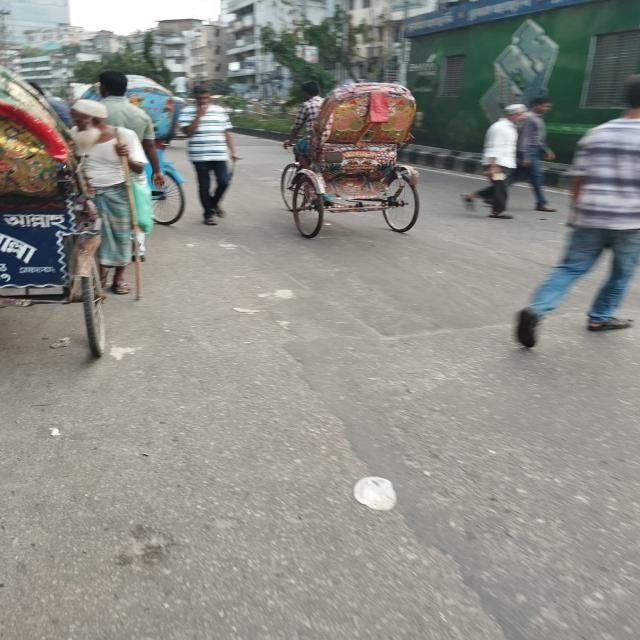person: (515, 75, 640, 348), (71, 100, 147, 294), (179, 86, 238, 226)
